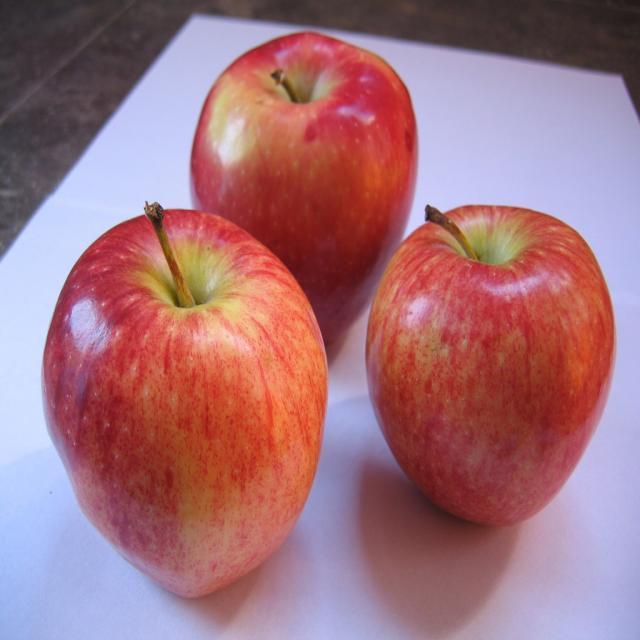Apple: (40, 200, 328, 599), (364, 203, 616, 526), (190, 30, 418, 346)
